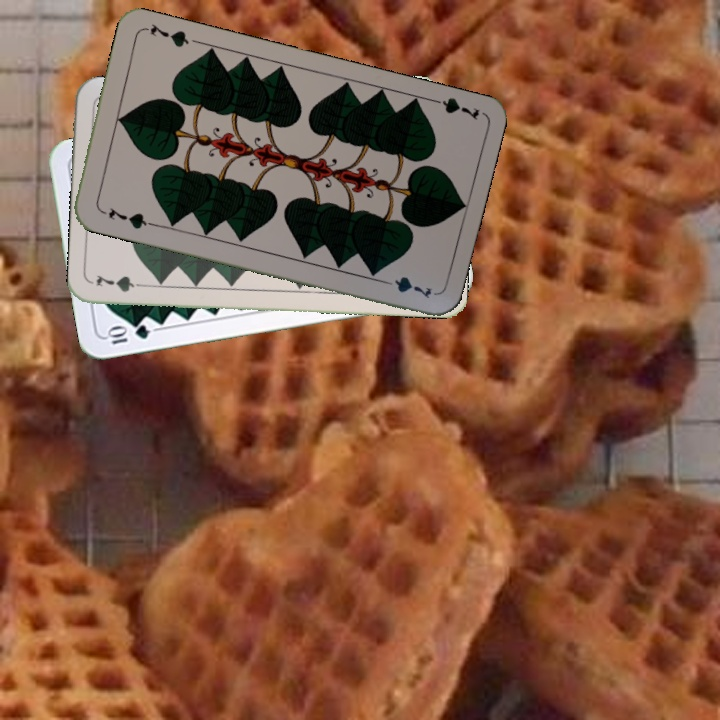G10: (103, 321, 153, 347)
G7: (423, 93, 482, 123), (96, 204, 154, 232), (92, 270, 151, 295)
